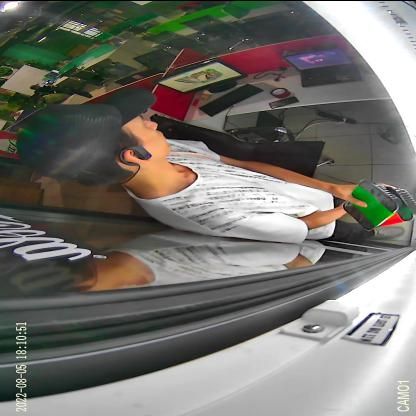green: (342, 178, 404, 230)
red: (377, 185, 416, 226)
